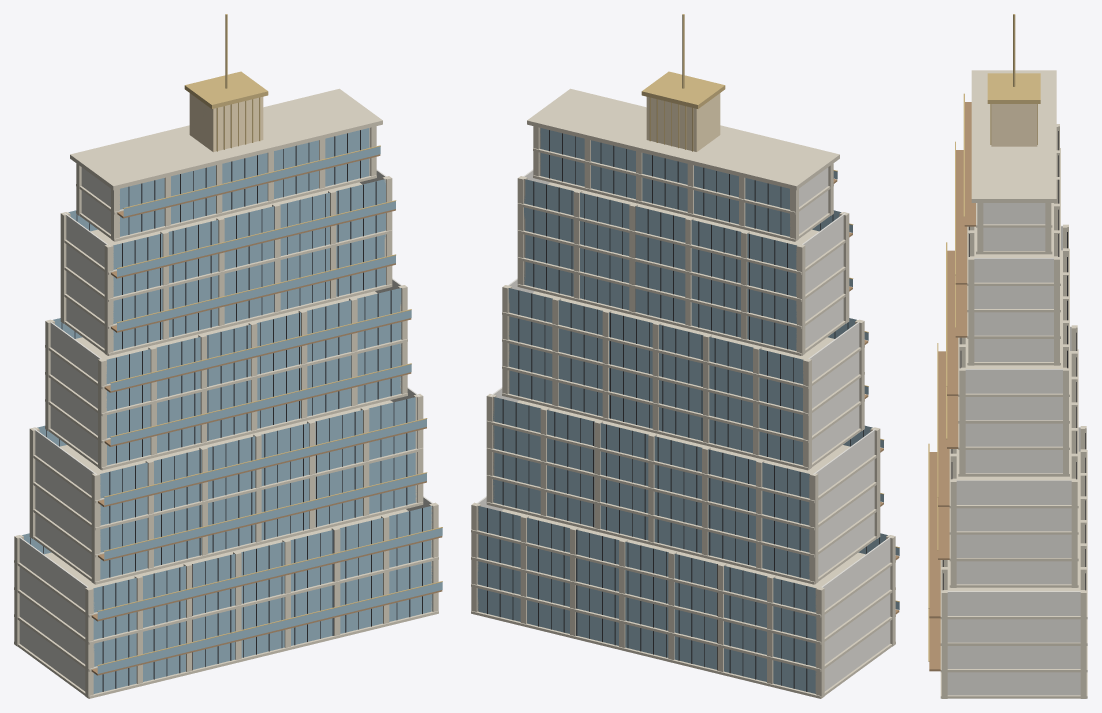
Rendered from E7-7_Arq_Tower.fbx.
The picture shows the model from 3 angles, left to right: view 1: azimuth 30°, elevation 25°; view 2: azimuth 150°, elevation 25°; view 3: azimuth 270°, elevation 25°; orthographic projection. The views are drawn at different scales.
Parts seen in each view (by area): view 1: E7-7_Arq_Tower; view 2: E7-7_Arq_Tower; view 3: E7-7_Arq_Tower.
Part boxes in pixels (<box>): E7-7_Arq_Tower: <box>14,14,442,698</box>; E7-7_Arq_Tower: <box>471,14,899,698</box>; E7-7_Arq_Tower: <box>928,14,1087,698</box>.
Size of the model in its own units: 44.7 by 74.9 by 18.
